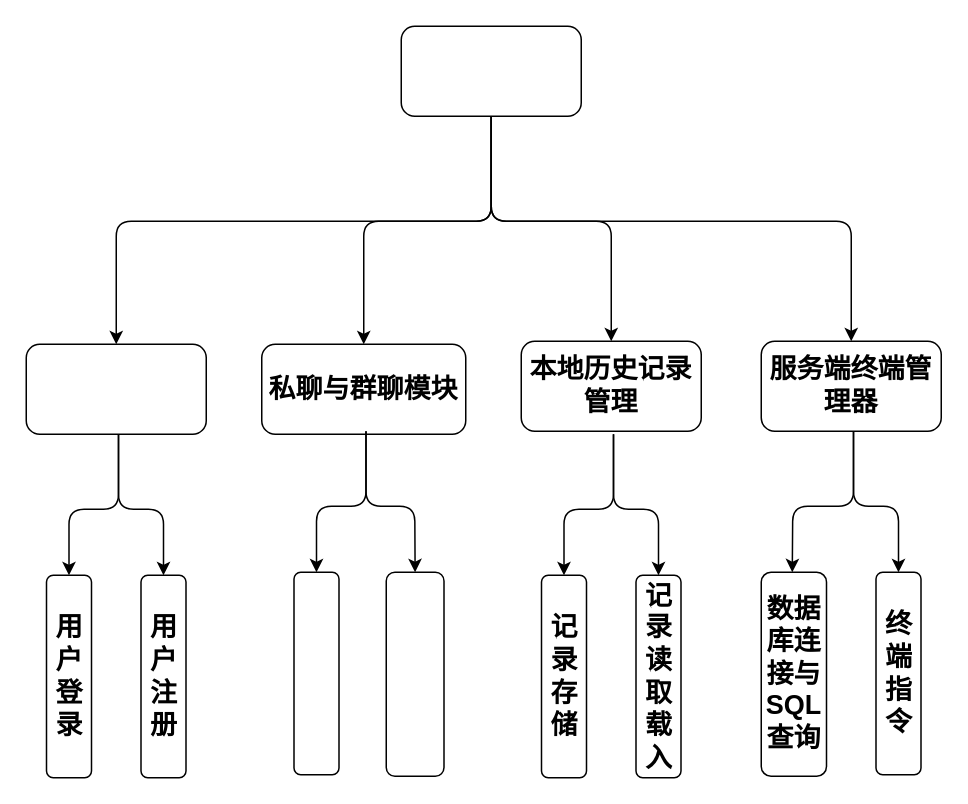
Image size: 968x804. Some labels were removed from this diagram. Each missing label, with the box of its shape:
在线聊天室: (400, 25, 581, 116)
客户端UI处理: (292, 571, 339, 775)
服务端用户与群组处理: (385, 571, 444, 776)
用户身份认证: (25, 343, 206, 434)
